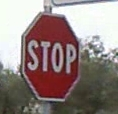stop: (19, 10, 80, 101)
